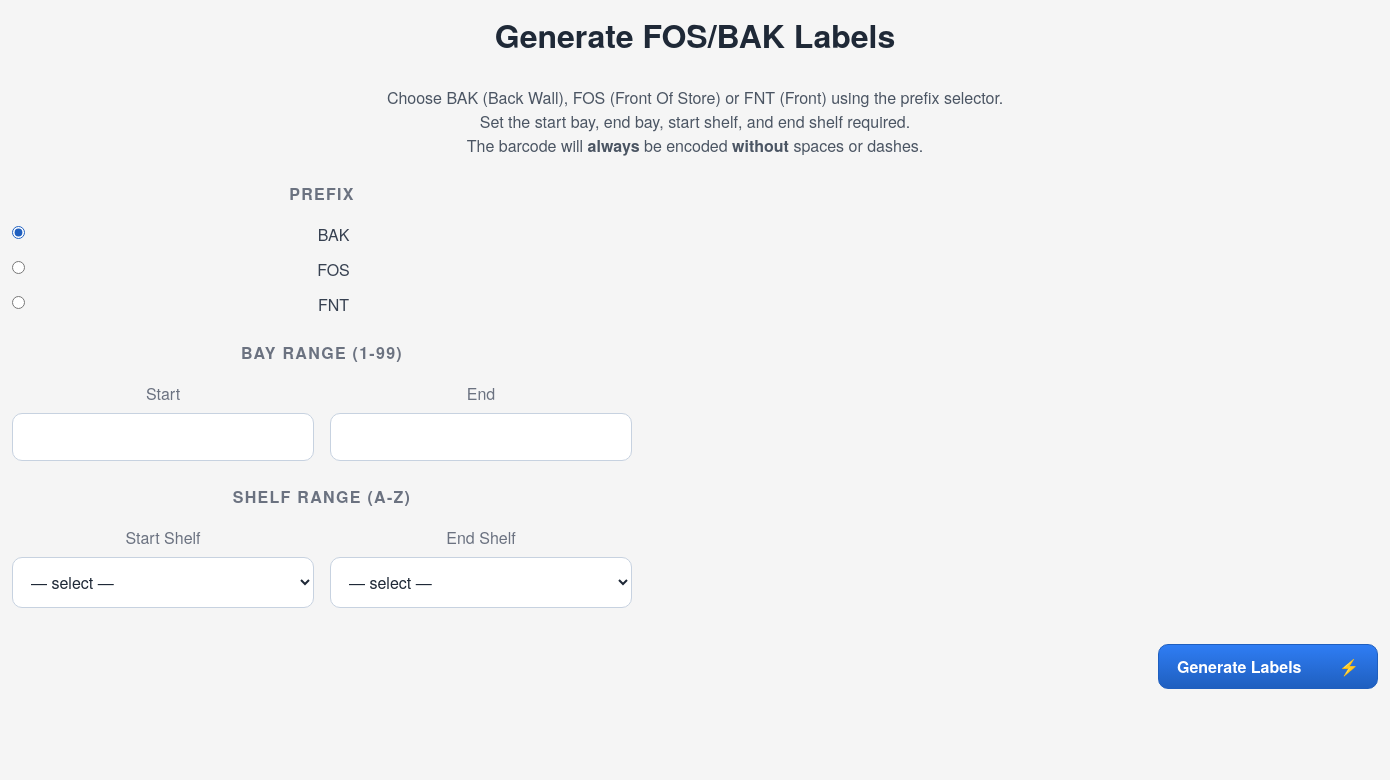
Test: BackLabelForm › shows validation error when fields are missing
The image size is (1390, 780).
Click the button "Generate Labels ⚡" at (1268, 667), box [1158,644,1378,689]
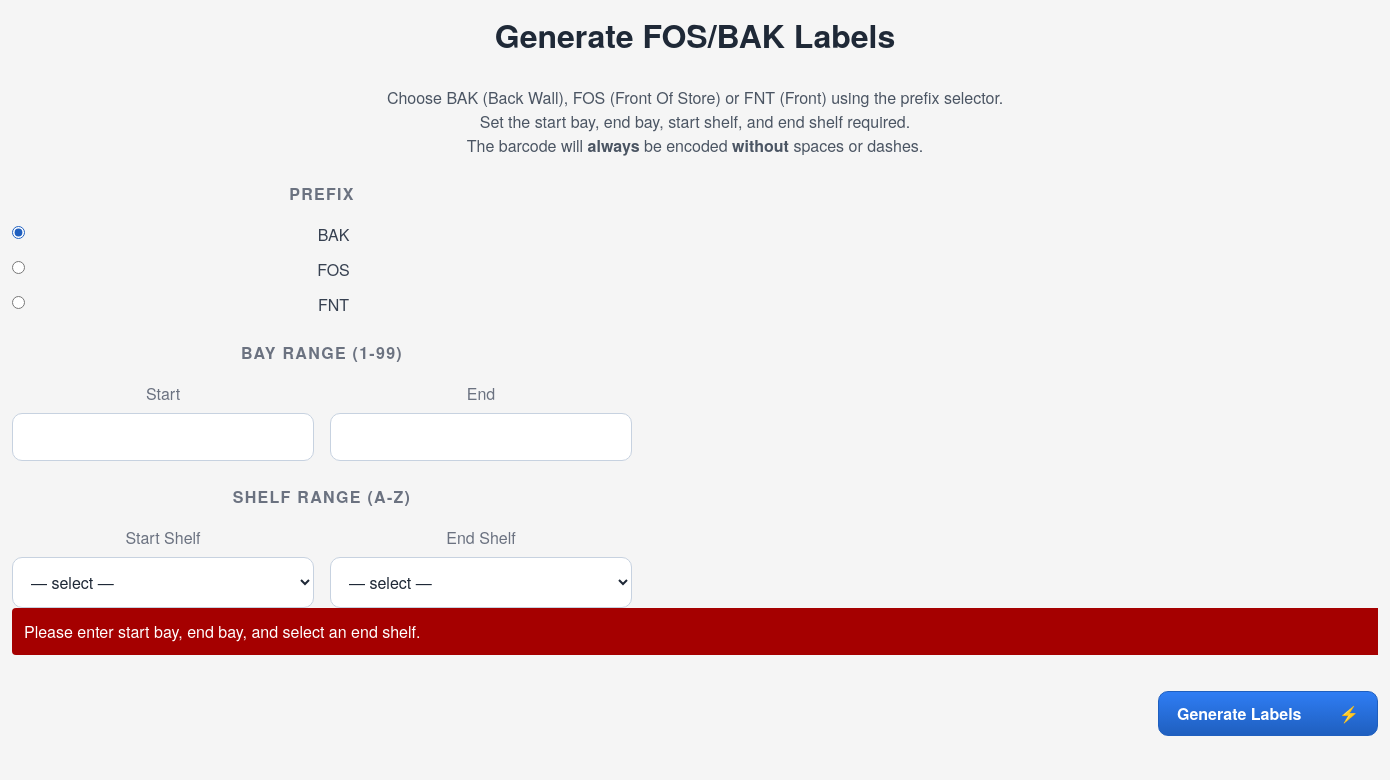
Expected: the message reads "Please enter start bay, end bay, and select an end shelf.", [24,620,420,643]
